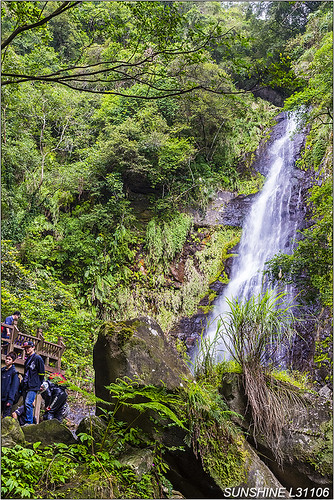wufengciWaterfall: (199, 102, 317, 370)
